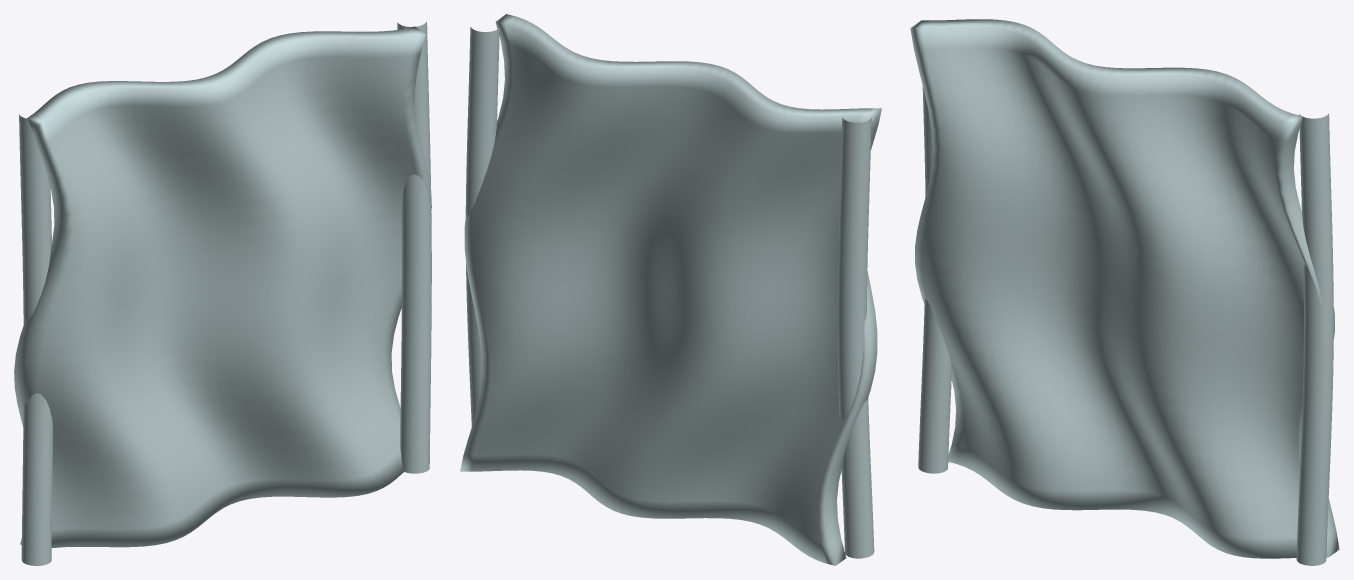
3 views of the same model, side by side, from view 1: azimuth 30°, elevation 25°; view 2: azimuth 150°, elevation 25°; view 3: azimuth 330°, elevation 25° (orthographic).
Parts seen in each view (by area): view 1: liquid-curtain, curtain-edge-0.8, curtain-edge--0.8; view 2: liquid-curtain, curtain-edge--0.8, curtain-edge-0.8; view 3: liquid-curtain, curtain-edge-0.8, curtain-edge--0.8.
Part boxes in pixels (box(x1,y1,x2,y2)): liquid-curtain: box(14, 26, 431, 547); curtain-edge-0.8: box(397, 21, 431, 473); curtain-edge--0.8: box(19, 114, 53, 565); liquid-curtain: box(460, 14, 881, 565); curtain-edge--0.8: box(837, 117, 874, 558); curtain-edge-0.8: box(465, 26, 499, 426); liquid-curtain: box(910, 19, 1339, 558); curtain-edge-0.8: box(1296, 113, 1333, 565); curtain-edge--0.8: box(918, 21, 951, 473).
Bounding box in the file's own units: 1.73 × 1.8 × 0.26.
